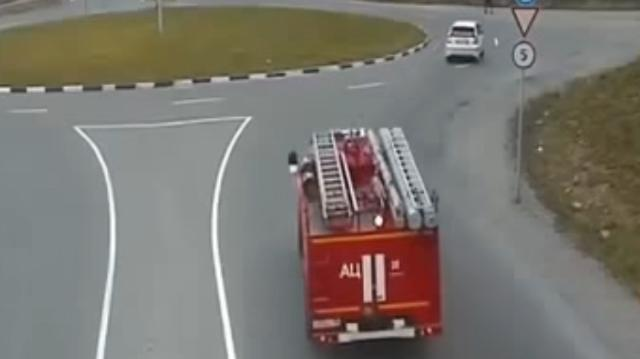fire fighting vehicle: (290, 129, 444, 353)
non emergency car: (446, 22, 485, 64)
